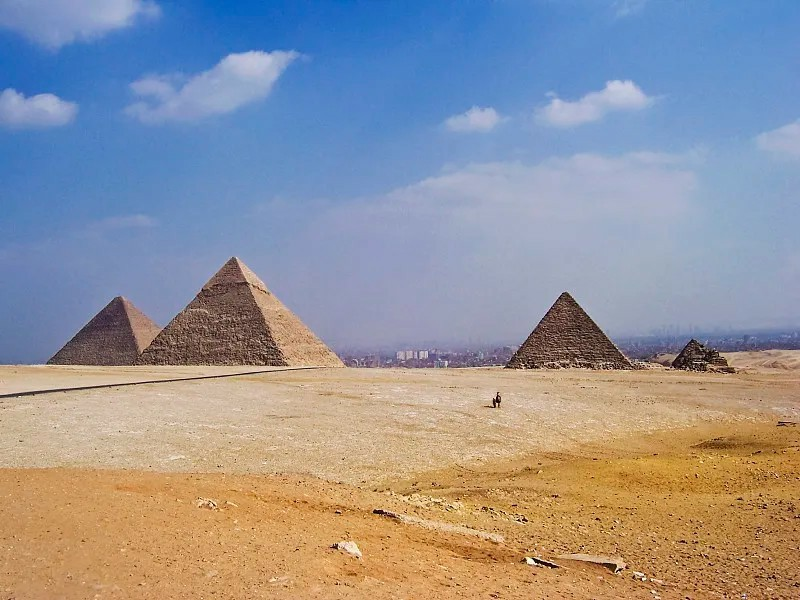Pyramid: (131, 257, 349, 370), (503, 292, 637, 369), (46, 297, 163, 366)
